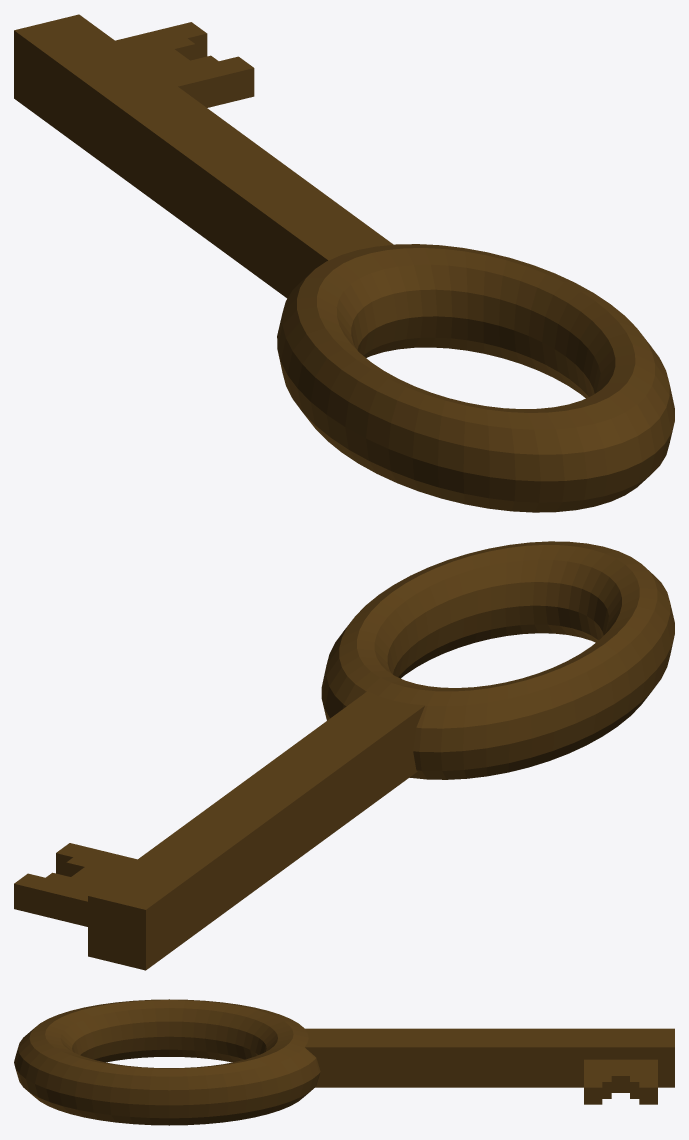
Rendered from Key.fbx.
3 views of the same model, one above another, from view 1: azimuth 30°, elevation 25°; view 2: azimuth 150°, elevation 25°; view 3: azimuth 270°, elevation 25° (orthographic). The views are drawn at different scales.
Parts seen in each view (by area): view 1: Torus, Cube; view 2: Torus, Cube; view 3: Torus, Cube.
Part boxes in pixels (x1,y1,x2,y2): Torus: (277,244,674,512); Cube: (14,14,393,298); Torus: (321,541,674,779); Cube: (14,691,424,970); Torus: (14,999,320,1125); Cube: (305,1028,674,1104).
Bounding box in the file's own units: 383 × 117 × 1246.
